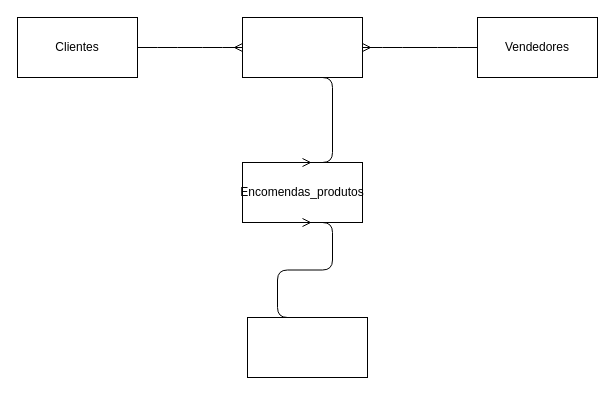
Image size: 615x395. Some labels were removed from this diagram. Here are the shapes that lost their labels. From the top down, the box of each, then its label:
(242, 16, 362, 78): Encomendas
(246, 316, 368, 378): Produtos
